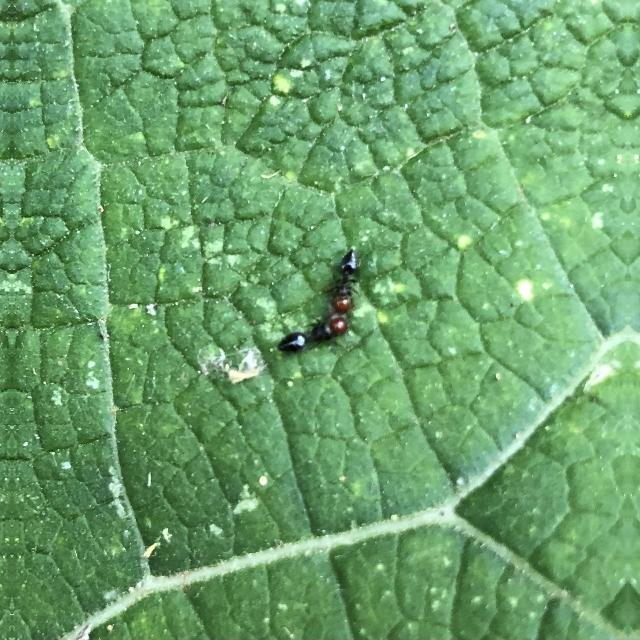Crematogaster: (274, 304, 348, 356), (320, 248, 368, 310)
